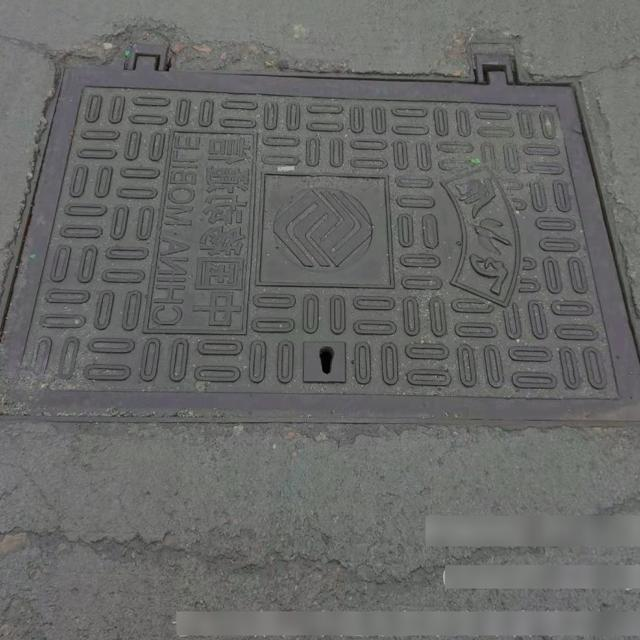good: (0, 40, 640, 427)
